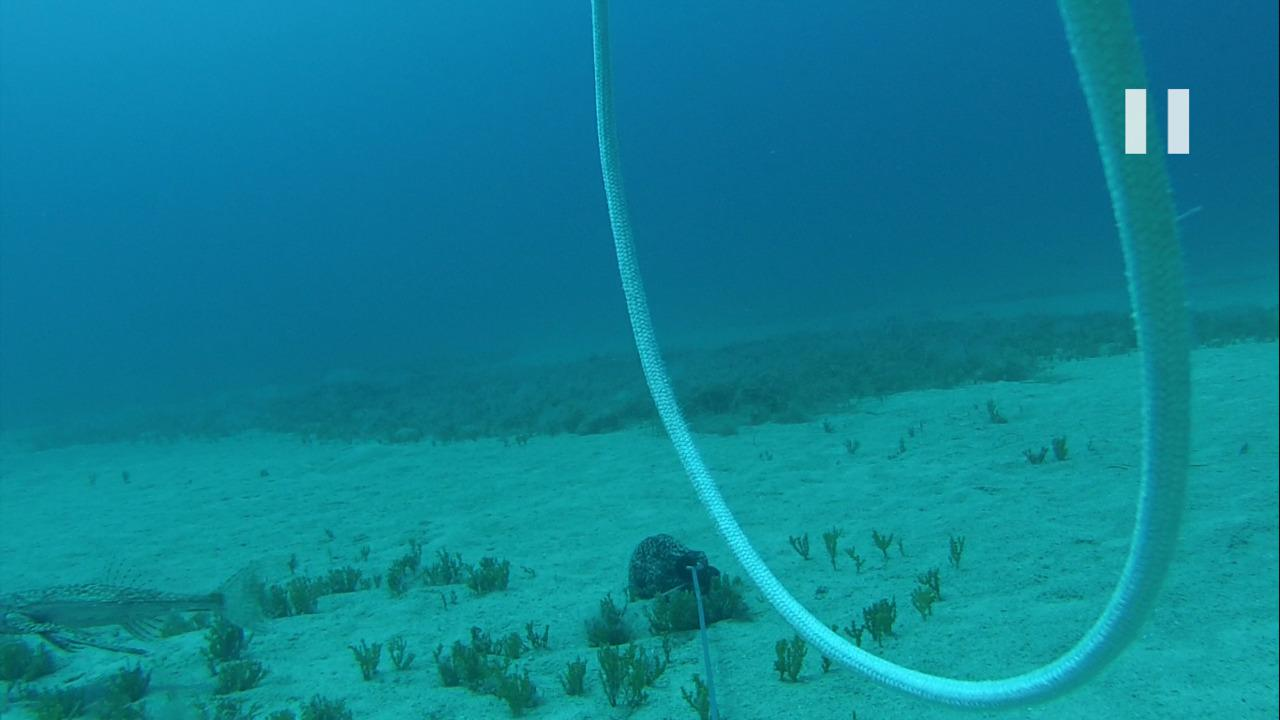dactylopterus: (8, 556, 270, 660)
